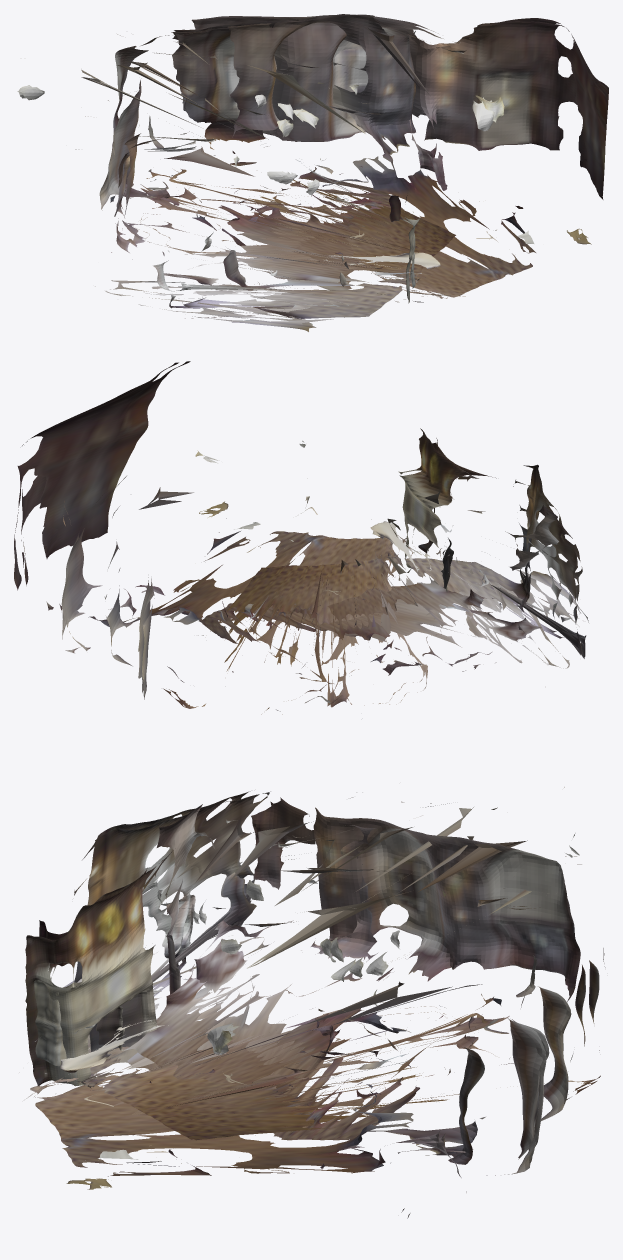
File: dummy3d_predicted.glb
3 views of the same model, one above another, from view 1: azimuth 30°, elevation 25°; view 2: azimuth 150°, elevation 25°; view 3: azimuth 270°, elevation 25° (orthographic). The views are drawn at different scales.
Parts seen in each view (by area): view 1: dummy3d_predicted.glb; view 2: dummy3d_predicted.glb; view 3: dummy3d_predicted.glb.
Boxes of the visible parts, bbox=[...] form: dummy3d_predicted.glb: bbox=[17, 14, 608, 331]; dummy3d_predicted.glb: bbox=[14, 361, 588, 714]; dummy3d_predicted.glb: bbox=[19, 787, 605, 1218].
Size of the model in its own units: 12.97 by 3.99 by 10.47.
